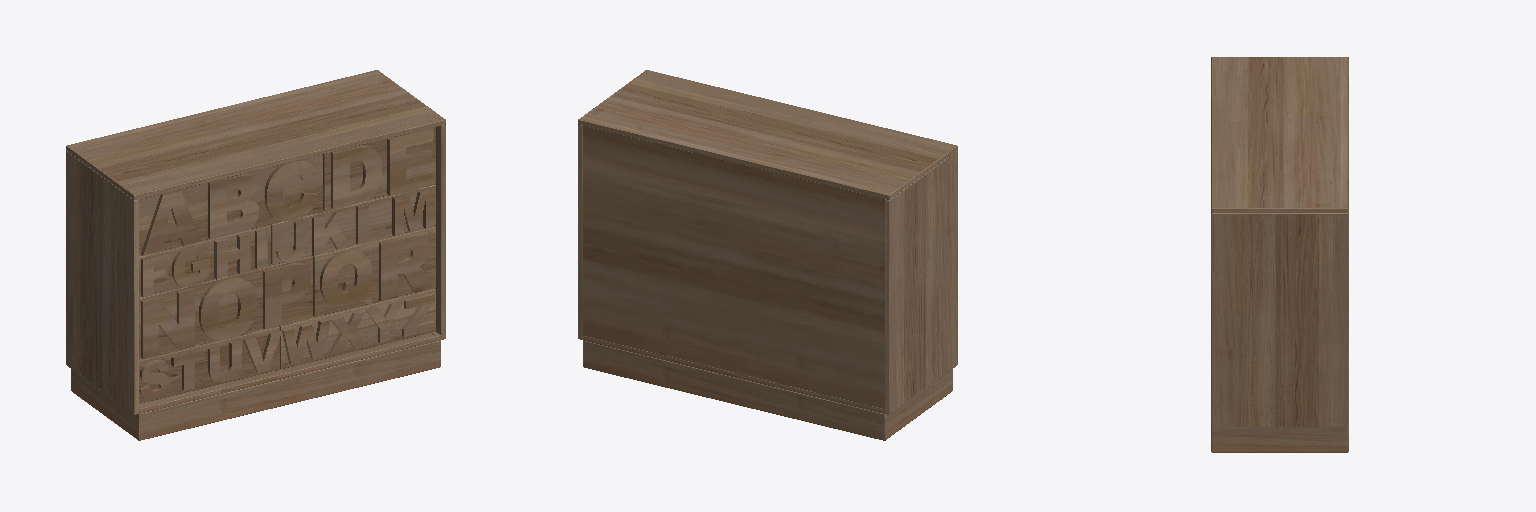
3 renders of one model, left to right at view 1: azimuth 30°, elevation 25°; view 2: azimuth 150°, elevation 25°; view 3: azimuth 270°, elevation 25°, orthographic.
Parts seen in each view (by area): view 1: solid_001; view 2: solid_001; view 3: solid_001.
Part boxes in pixels (bbox=[...]): solid_001: bbox=[66, 70, 445, 440]; solid_001: bbox=[578, 70, 957, 440]; solid_001: bbox=[1211, 57, 1348, 452].
Bounding box in the file's own units: 1.59 × 1.2 × 0.6061.
Materials: 1 (1 with a texture image).